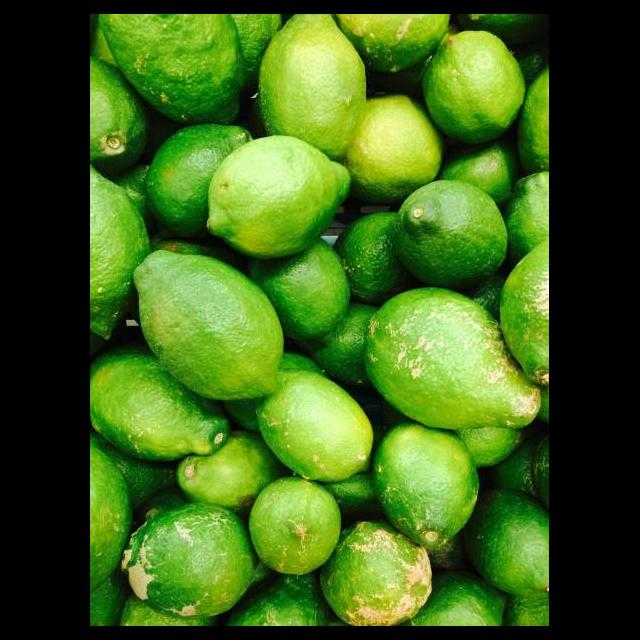lime: (367, 288, 544, 430), (132, 248, 286, 403), (122, 504, 258, 619), (324, 523, 434, 626)
